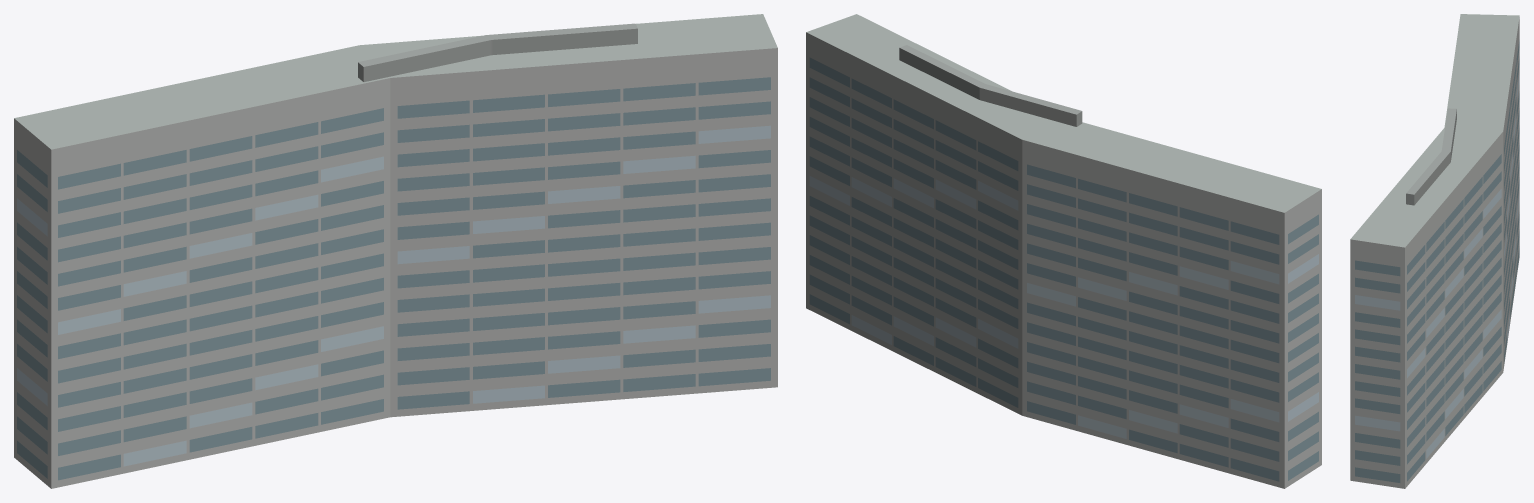
File: fallback-daechi-eunma-21.glb
3 renders of one model, left to right at view 1: azimuth 30°, elevation 25°; view 2: azimuth 150°, elevation 25°; view 3: azimuth 270°, elevation 25°, orthographic. The views are drawn at different scales.
Parts seen in each view (by area): view 1: fallback-daechi-eunma-21; view 2: fallback-daechi-eunma-21; view 3: fallback-daechi-eunma-21.
Part boxes in pixels (x1,y1,x2,y2): fallback-daechi-eunma-21: (14, 14, 777, 488); fallback-daechi-eunma-21: (806, 14, 1321, 488); fallback-daechi-eunma-21: (1350, 14, 1519, 488).
Size of the model in its own units: 88.63 by 44.62 by 27.16.
